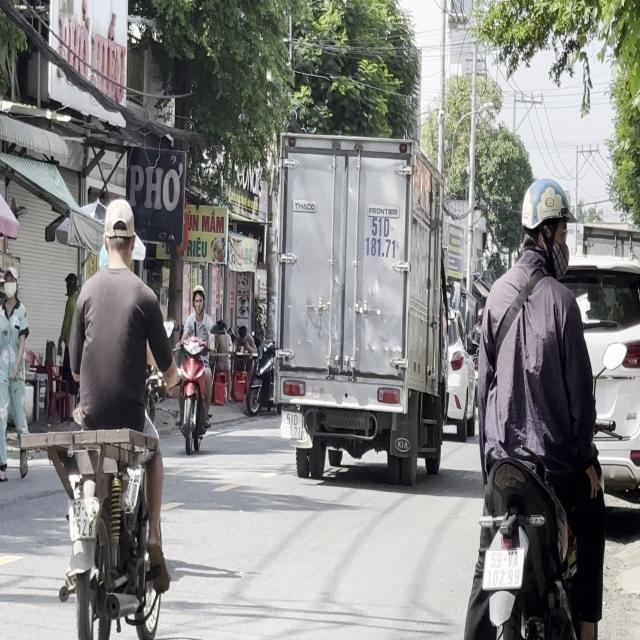helmet: (520, 178, 572, 266), (191, 284, 206, 317)
licenseplate: (461, 172, 618, 634), (54, 194, 172, 638), (174, 283, 215, 460)
motorcyclist: (102, 196, 137, 274)
nohelmet: (482, 548, 523, 588), (67, 498, 97, 540)
